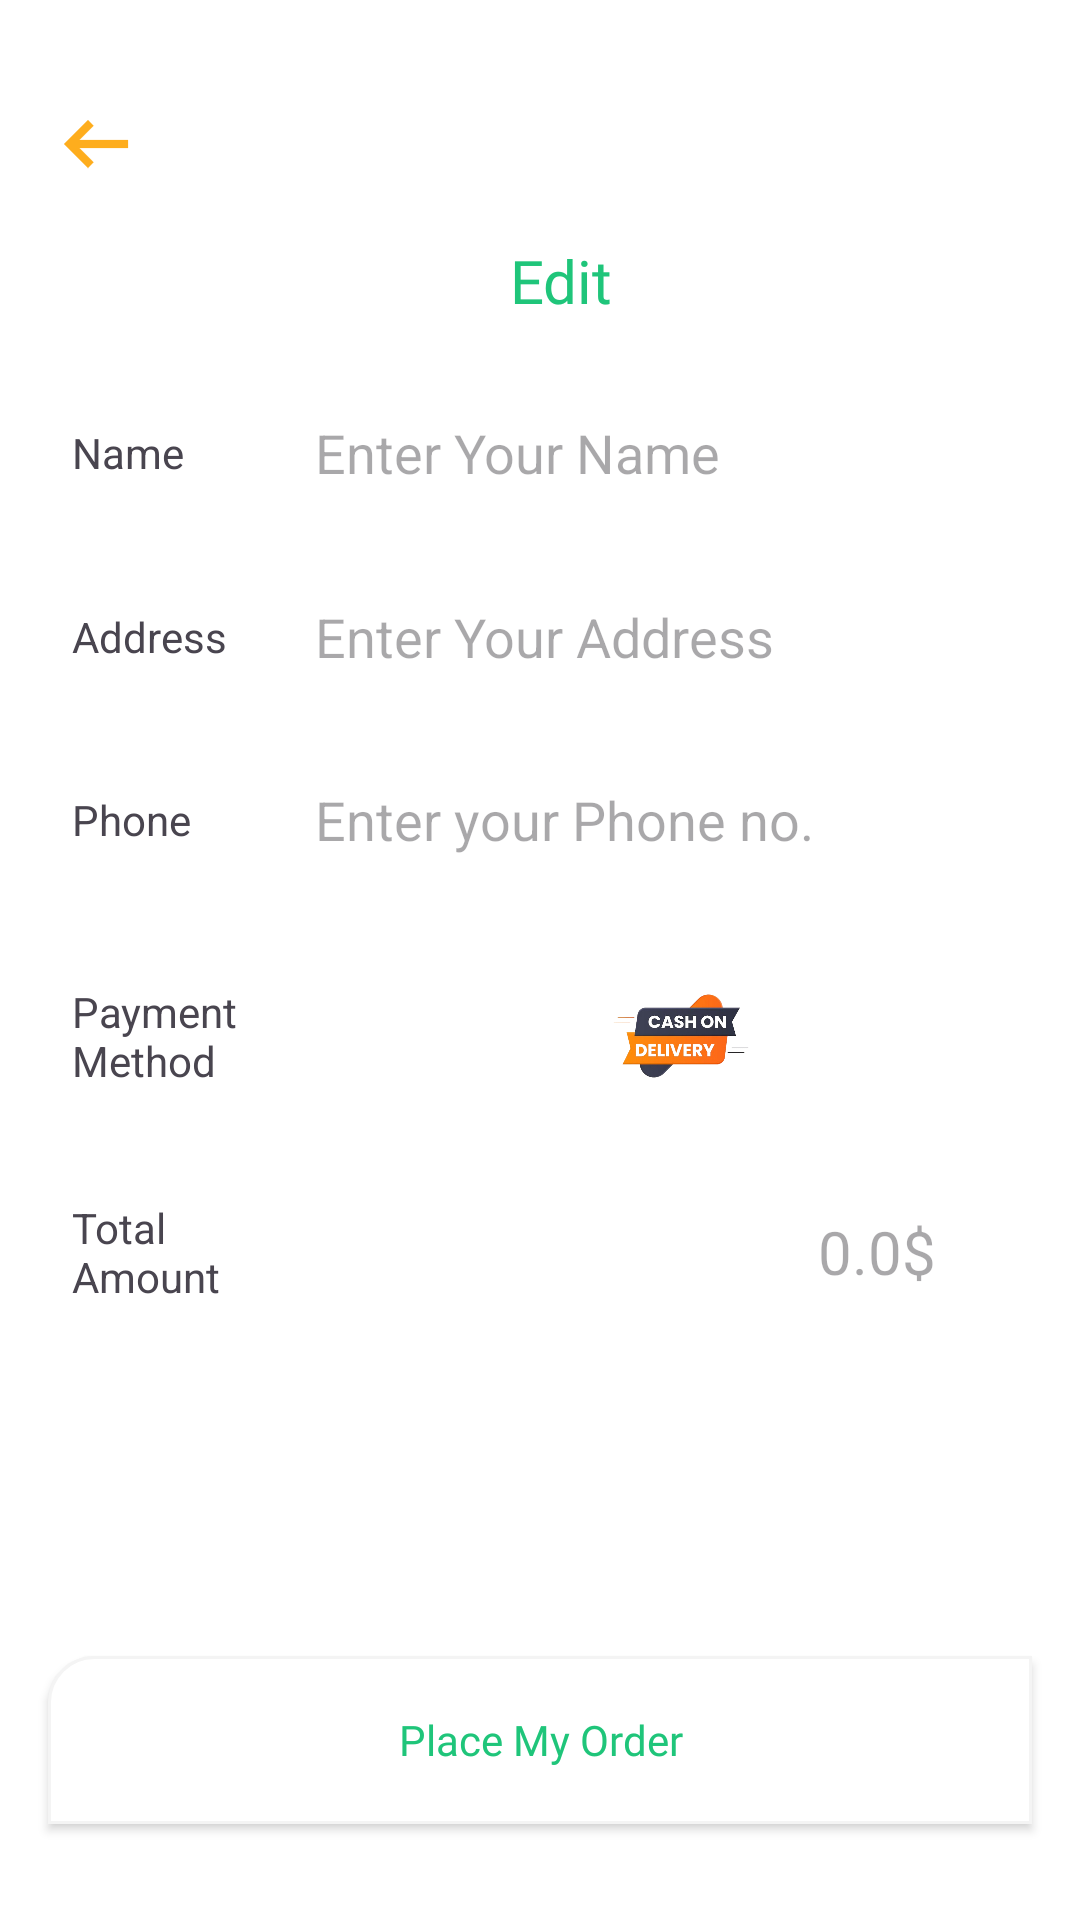

Named icons in this screenshot (1080 × 1920) and their centers, (x=x, y=y):
arrow left: (x=96, y=144)
